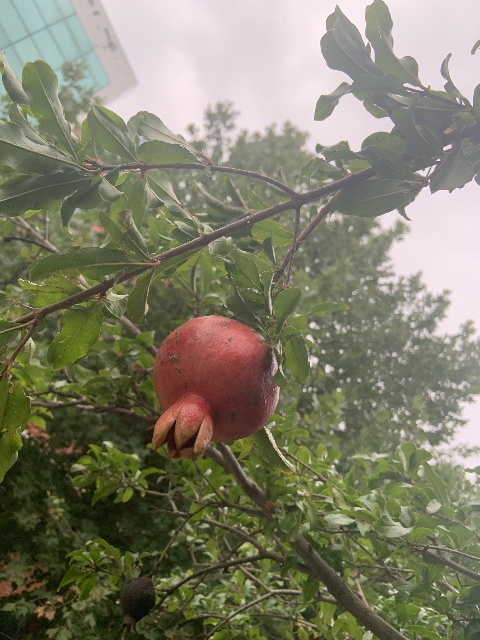ripe: (149, 316, 279, 457)
